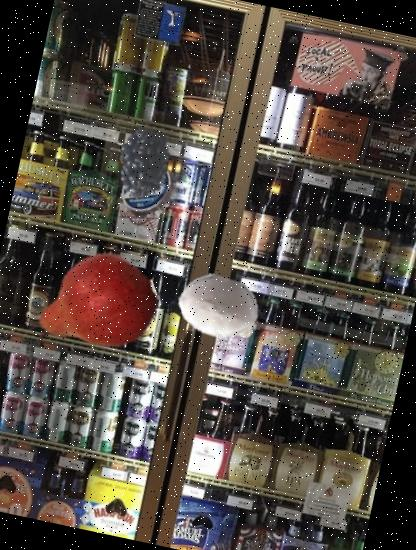Hazelnut: (167, 258, 268, 358)
Mulberry: (100, 121, 185, 206)
Pear: (12, 227, 170, 386)
